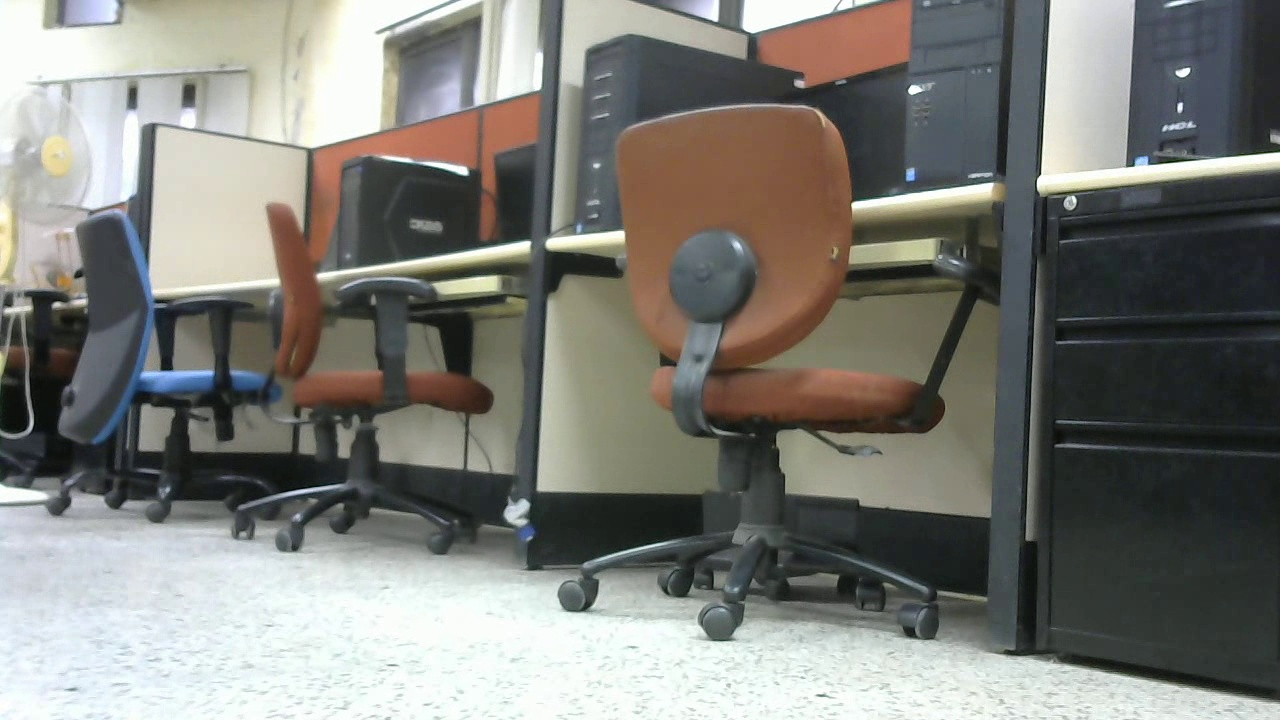chair: (559, 105, 1000, 639), (225, 202, 497, 563), (45, 206, 272, 522), (1, 286, 81, 408)
